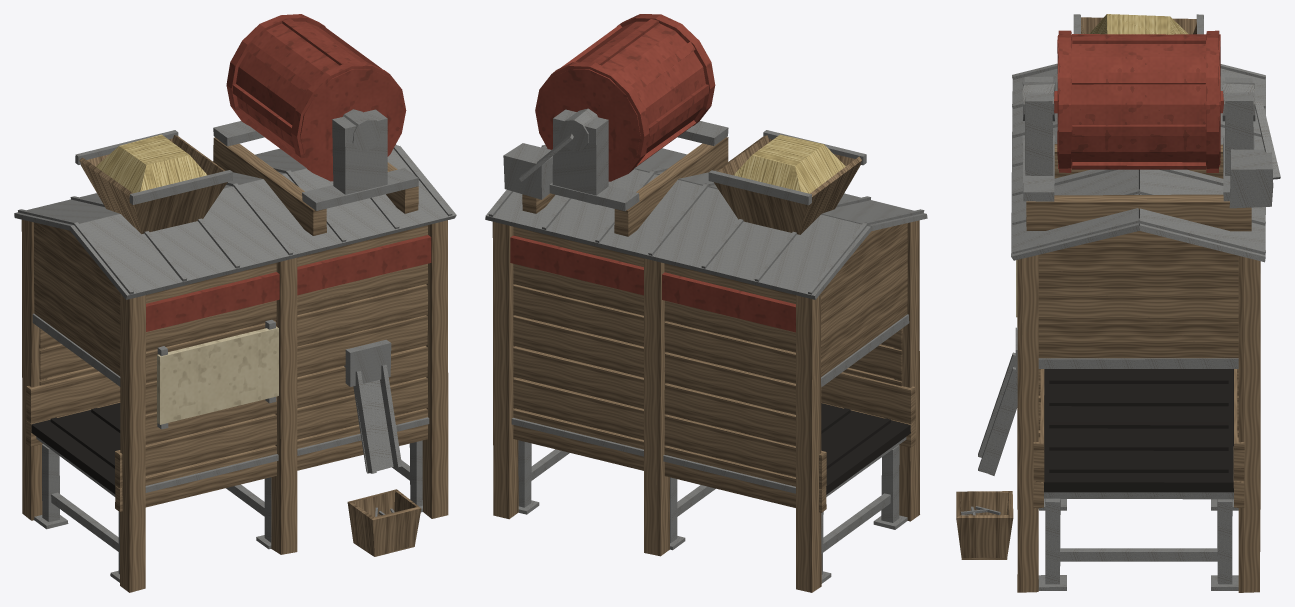
The model's file is magnet_drum.glb.
3 views of the same model, side by side, from view 1: azimuth 30°, elevation 25°; view 2: azimuth 150°, elevation 25°; view 3: azimuth 270°, elevation 25° (orthographic). The views are drawn at different scales.
Parts seen in each view (by area): view 1: MagnetDrum, Drum, Sign, Belt; view 2: MagnetDrum, Drum, Belt; view 3: MagnetDrum, Belt, Drum, Roller2.
Part boxes in pixels (x1,y1,x2,y2): MagnetDrum: (14, 109, 456, 592); Drum: (226, 14, 406, 181); Sign: (157, 326, 278, 424); Belt: (31, 403, 120, 493); MagnetDrum: (485, 108, 927, 592); Drum: (535, 14, 715, 181); Belt: (821, 403, 910, 494); MagnetDrum: (956, 14, 1280, 592); Belt: (1044, 369, 1233, 492); Drum: (1054, 30, 1223, 172); Roller2: (1044, 492, 1233, 499).
Size of the model in its own units: 3.42 by 4.51 by 2.59.
Materials: 6 (5 with a texture image).
